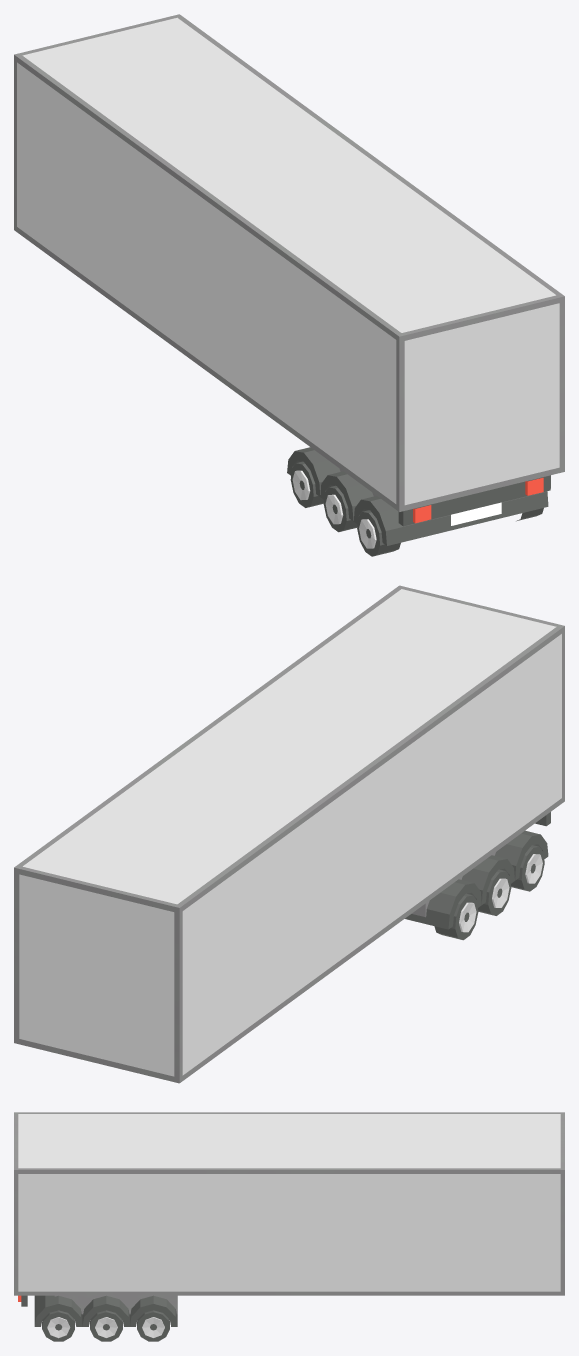
Rendered from transport_truck.012.glb.
3 views of the same model, one above another, from view 1: azimuth 30°, elevation 25°; view 2: azimuth 150°, elevation 25°; view 3: azimuth 270°, elevation 25° (orthographic). The views are drawn at different scales.
Parts seen in each view (by area): view 1: transport_truck.012(Clone); view 2: transport_truck.012(Clone); view 3: transport_truck.012(Clone).
Part boxes in pixels (bbox=[...]): transport_truck.012(Clone): bbox=[14, 14, 564, 556]; transport_truck.012(Clone): bbox=[14, 585, 564, 1083]; transport_truck.012(Clone): bbox=[14, 1112, 564, 1341].
Size of the model in its own units: 2.16 by 2.96 by 8.59.
Materials: 1 (1 with a texture image).
